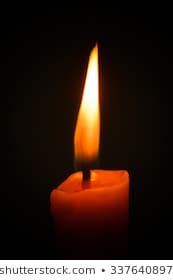Fire: (74, 41, 105, 164)
